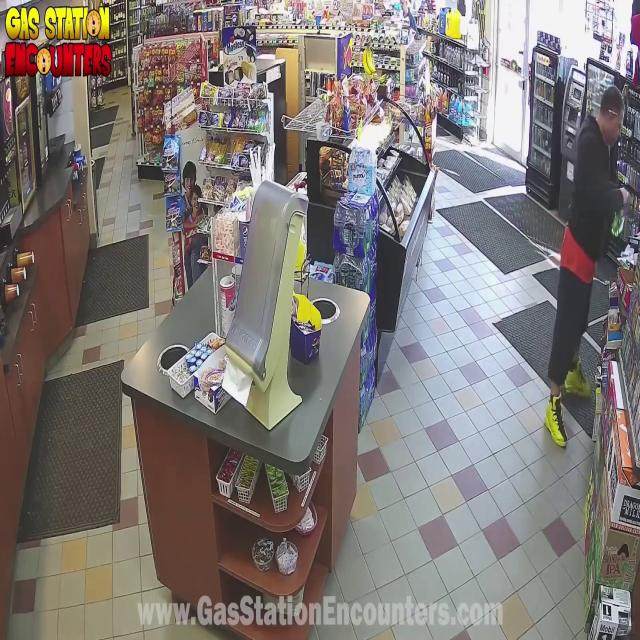Product: (610, 195, 629, 257)
shoplifting: (534, 71, 640, 477)
